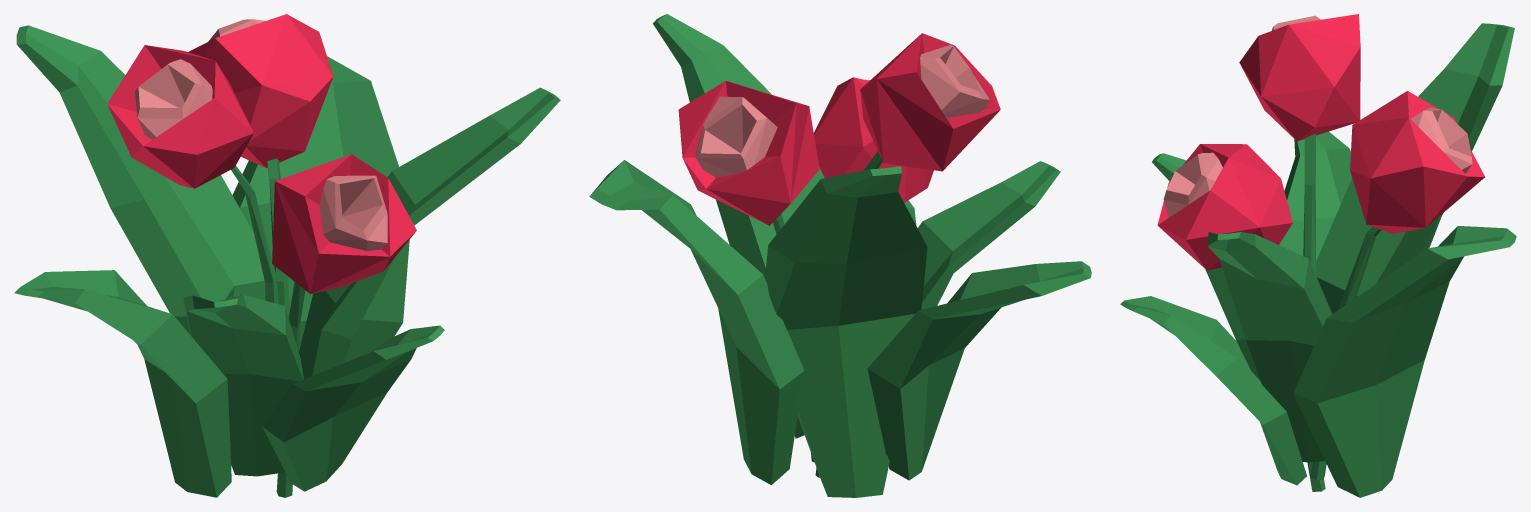
Rendered from Flowers_Red_flat.gltf.
The picture shows the model from 3 angles, left to right: view 1: azimuth 30°, elevation 25°; view 2: azimuth 150°, elevation 25°; view 3: azimuth 270°, elevation 25°; orthographic projection. The views are drawn at different scales.
Parts seen in each view (by area): view 1: Flowers_Red_flat; view 2: Flowers_Red_flat; view 3: Flowers_Red_flat.
Boxes of the visible parts, bbox=[...] form: Flowers_Red_flat: bbox=[14, 14, 560, 497]; Flowers_Red_flat: bbox=[589, 14, 1091, 497]; Flowers_Red_flat: bbox=[1120, 14, 1516, 497].
Bounding box in the file's own units: 1.94 × 1.75 × 1.47.
